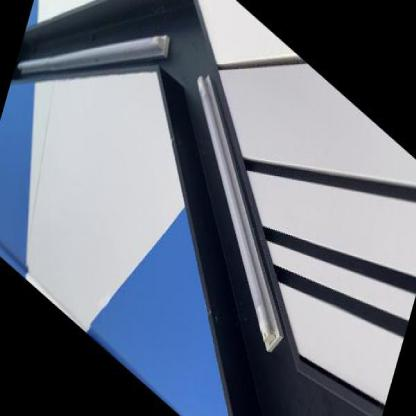light_off: (143, 45, 337, 368), (7, 0, 182, 207)
